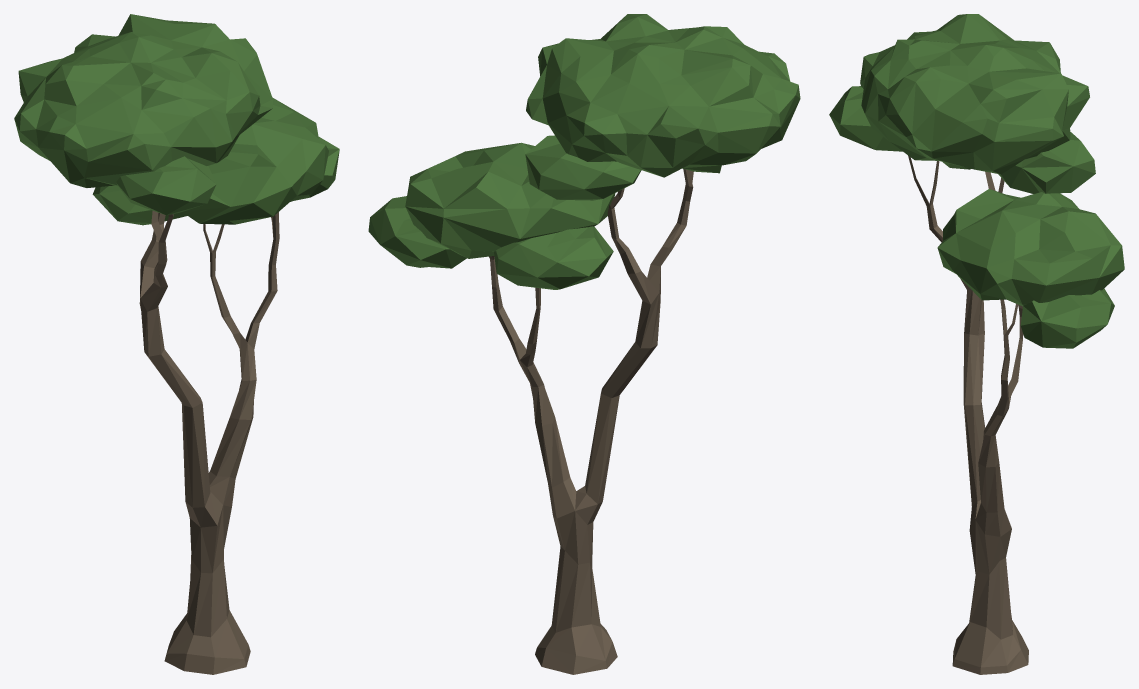
The model's file is SM_Env_Tree_Large_01.glb.
3 views of the same model, side by side, from view 1: azimuth 30°, elevation 25°; view 2: azimuth 150°, elevation 25°; view 3: azimuth 270°, elevation 25° (orthographic). The views are drawn at different scales.
Parts seen in each view (by area): view 1: SM_Env_Tree_Large_01_part00; view 2: SM_Env_Tree_Large_01_part00; view 3: SM_Env_Tree_Large_01_part00.
Boxes of the visible parts, box(x1,y1,x2,y2) form: SM_Env_Tree_Large_01_part00: box(14, 14, 339, 674); SM_Env_Tree_Large_01_part00: box(368, 14, 800, 674); SM_Env_Tree_Large_01_part00: box(829, 14, 1124, 674).
Bounding box in the file's own units: 14.53 × 24.4 × 11.24.
1 material, 1 textured.
